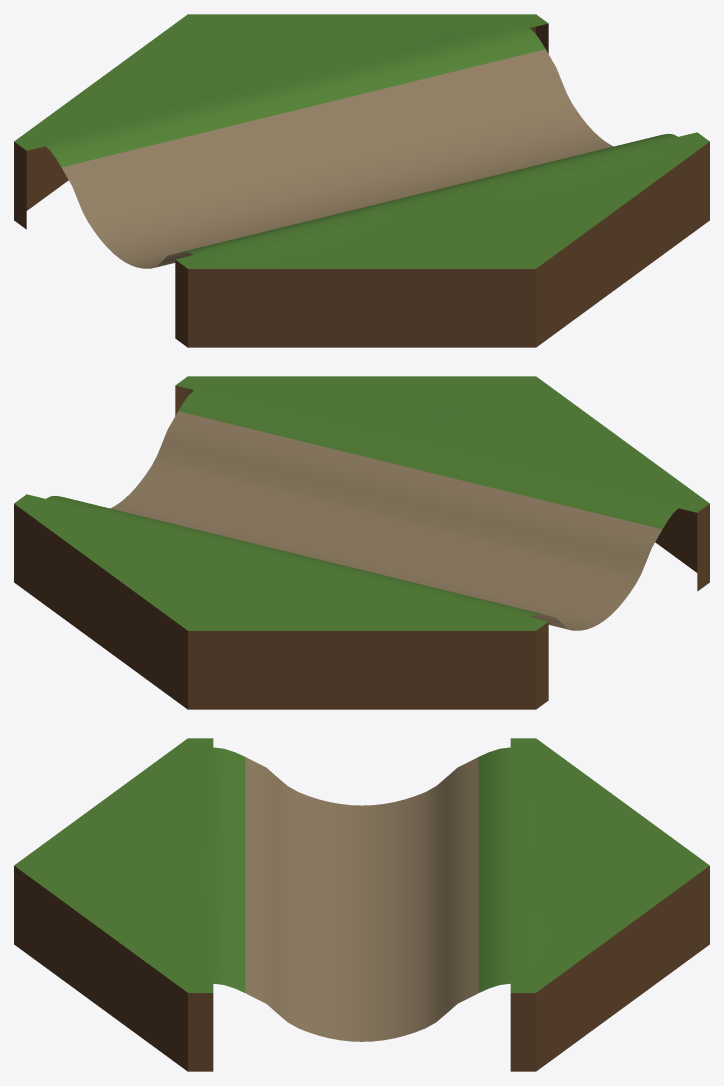
File: river_straight_base.glb
3 renders of one model, top to bottom at view 1: azimuth 30°, elevation 25°; view 2: azimuth 150°, elevation 25°; view 3: azimuth 270°, elevation 25°, orthographic.
Parts seen in each view (by area): view 1: river_straight_base_lod0; view 2: river_straight_base_lod0; view 3: river_straight_base_lod0.
Part boxes in pixels (<box>): river_straight_base_lod0: <box>14,14,709,347</box>; river_straight_base_lod0: <box>14,376,709,709</box>; river_straight_base_lod0: <box>14,738,709,1071</box>.
Size of what is drawn, in the model's own units: 27.71 by 4 by 32.
